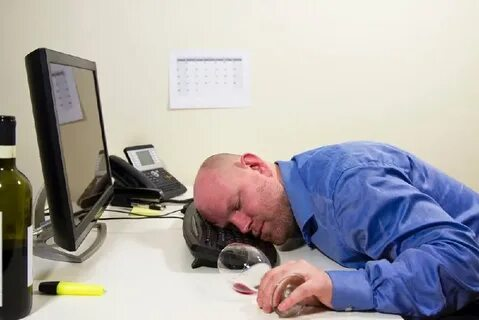sleep: (192, 138, 479, 317)
